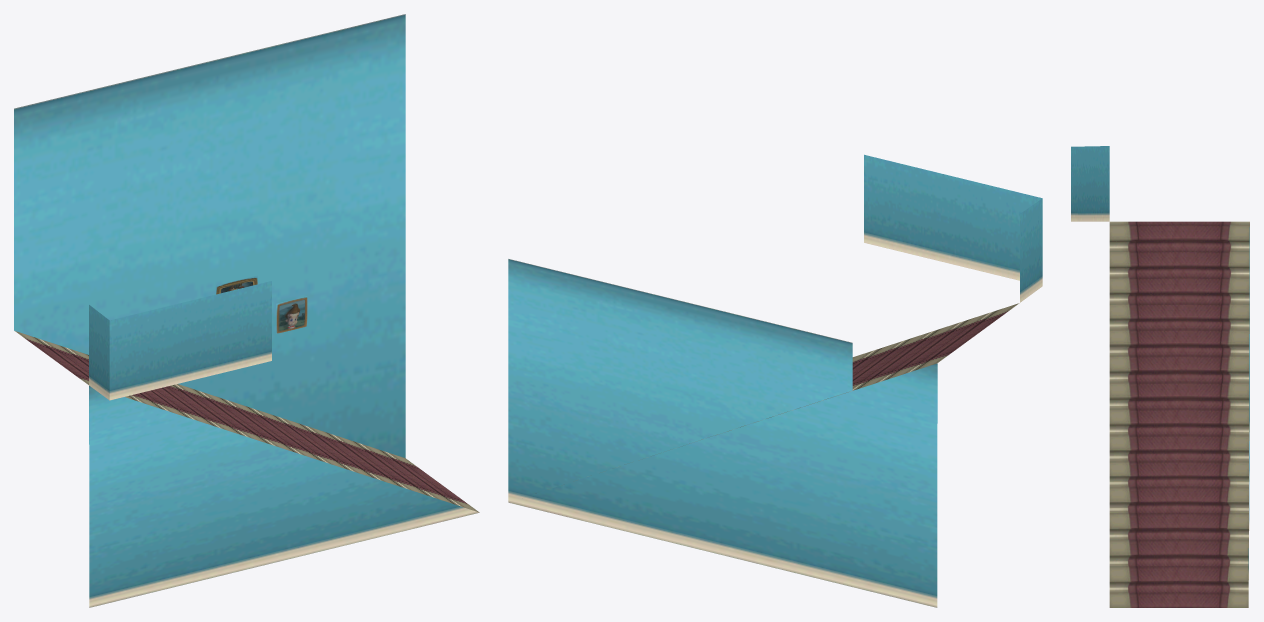
File: STAIRS.glb
3 views of the same model, side by side, from view 1: azimuth 30°, elevation 25°; view 2: azimuth 150°, elevation 25°; view 3: azimuth 270°, elevation 25° (orthographic). The views are drawn at different scales.
Parts seen in each view (by area): view 1: STAIRS; view 2: STAIRS; view 3: STAIRS.
Boxes of the visible parts, x1,y1,x2,y2 form: STAIRS: (14,14,479,607); STAIRS: (508,154,1042,607); STAIRS: (1071,146,1249,607).
Size of the model in its own units: 1149 by 1249 by 487.
3 materials, 3 textured.
